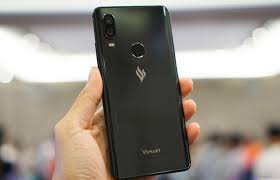vsmart: (90, 1, 194, 178)
